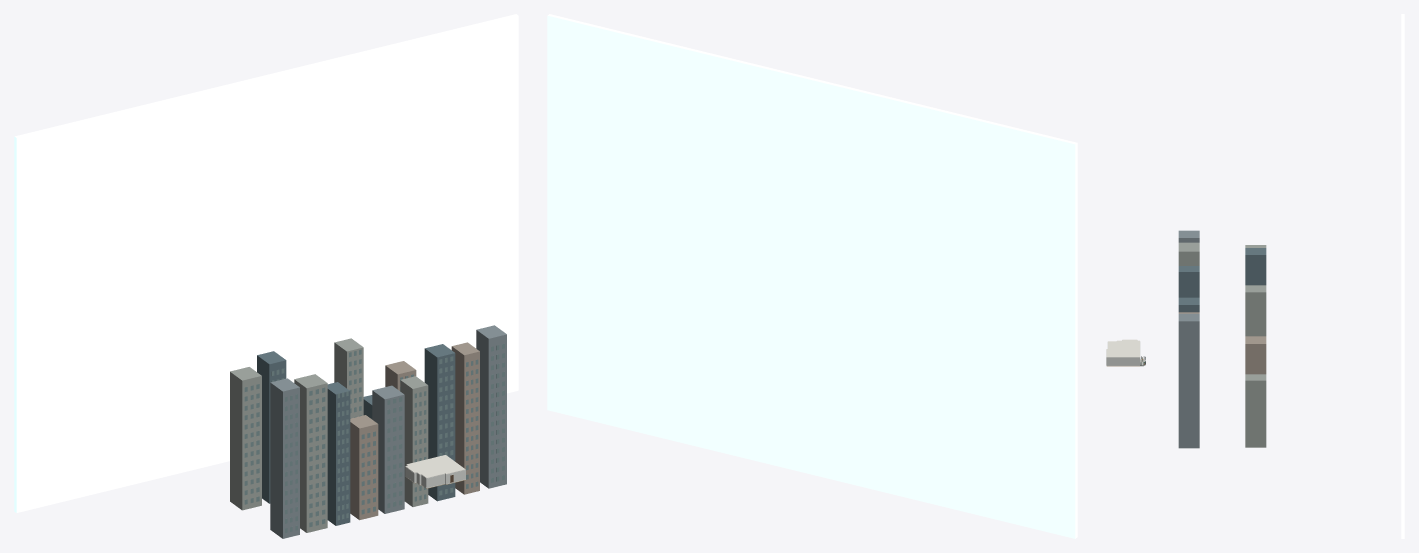
The model's file is apartment.glb.
3 renders of one model, left to right at view 1: azimuth 30°, elevation 25°; view 2: azimuth 150°, elevation 25°; view 3: azimuth 270°, elevation 25°, orthographic. The views are drawn at different scales.
Visible parts, largest first — view 1: Context sky backdrop, Context window assembly, Context building 0, Context building 9, Context building 8, Context building 1, Context building 6, Context building 7, Context building 4, Context building 2, Context building 3, Context building 5 (+3 smaller); view 2: Context sky backdrop; view 3: Context building 8, Context sky backdrop, Context building 17, Context building 13, Context building 15, Context building 10, Context building 2, Ceiling substrate, Context building 1.
Boxes of the visible parts, x1,y1,x2,y2 form: Context sky backdrop: (14, 14, 518, 512); Context window assembly: (244, 343, 504, 533); Context building 0: (270, 378, 299, 538); Context building 9: (230, 367, 261, 510); Context building 8: (476, 325, 506, 488); Context building 1: (294, 374, 327, 532); Context building 6: (424, 344, 455, 501); Context building 7: (451, 342, 479, 494); Context building 4: (372, 385, 404, 513); Context building 2: (327, 382, 350, 525); Context building 3: (350, 415, 378, 520); Context building 5: (400, 376, 428, 506); Context sky backdrop: (547, 14, 1077, 538); Context building 8: (1178, 313, 1199, 448); Context sky backdrop: (1401, 14, 1404, 538); Context building 17: (1245, 374, 1266, 447); Context building 13: (1245, 285, 1266, 336); Context building 15: (1245, 336, 1266, 374); Context building 10: (1245, 248, 1266, 285); Context building 2: (1178, 266, 1199, 297); Ceiling substrate: (1106, 339, 1139, 357); Context building 1: (1178, 242, 1199, 265).
Bounding box in the file's own units: 140 × 100 × 85.18.
